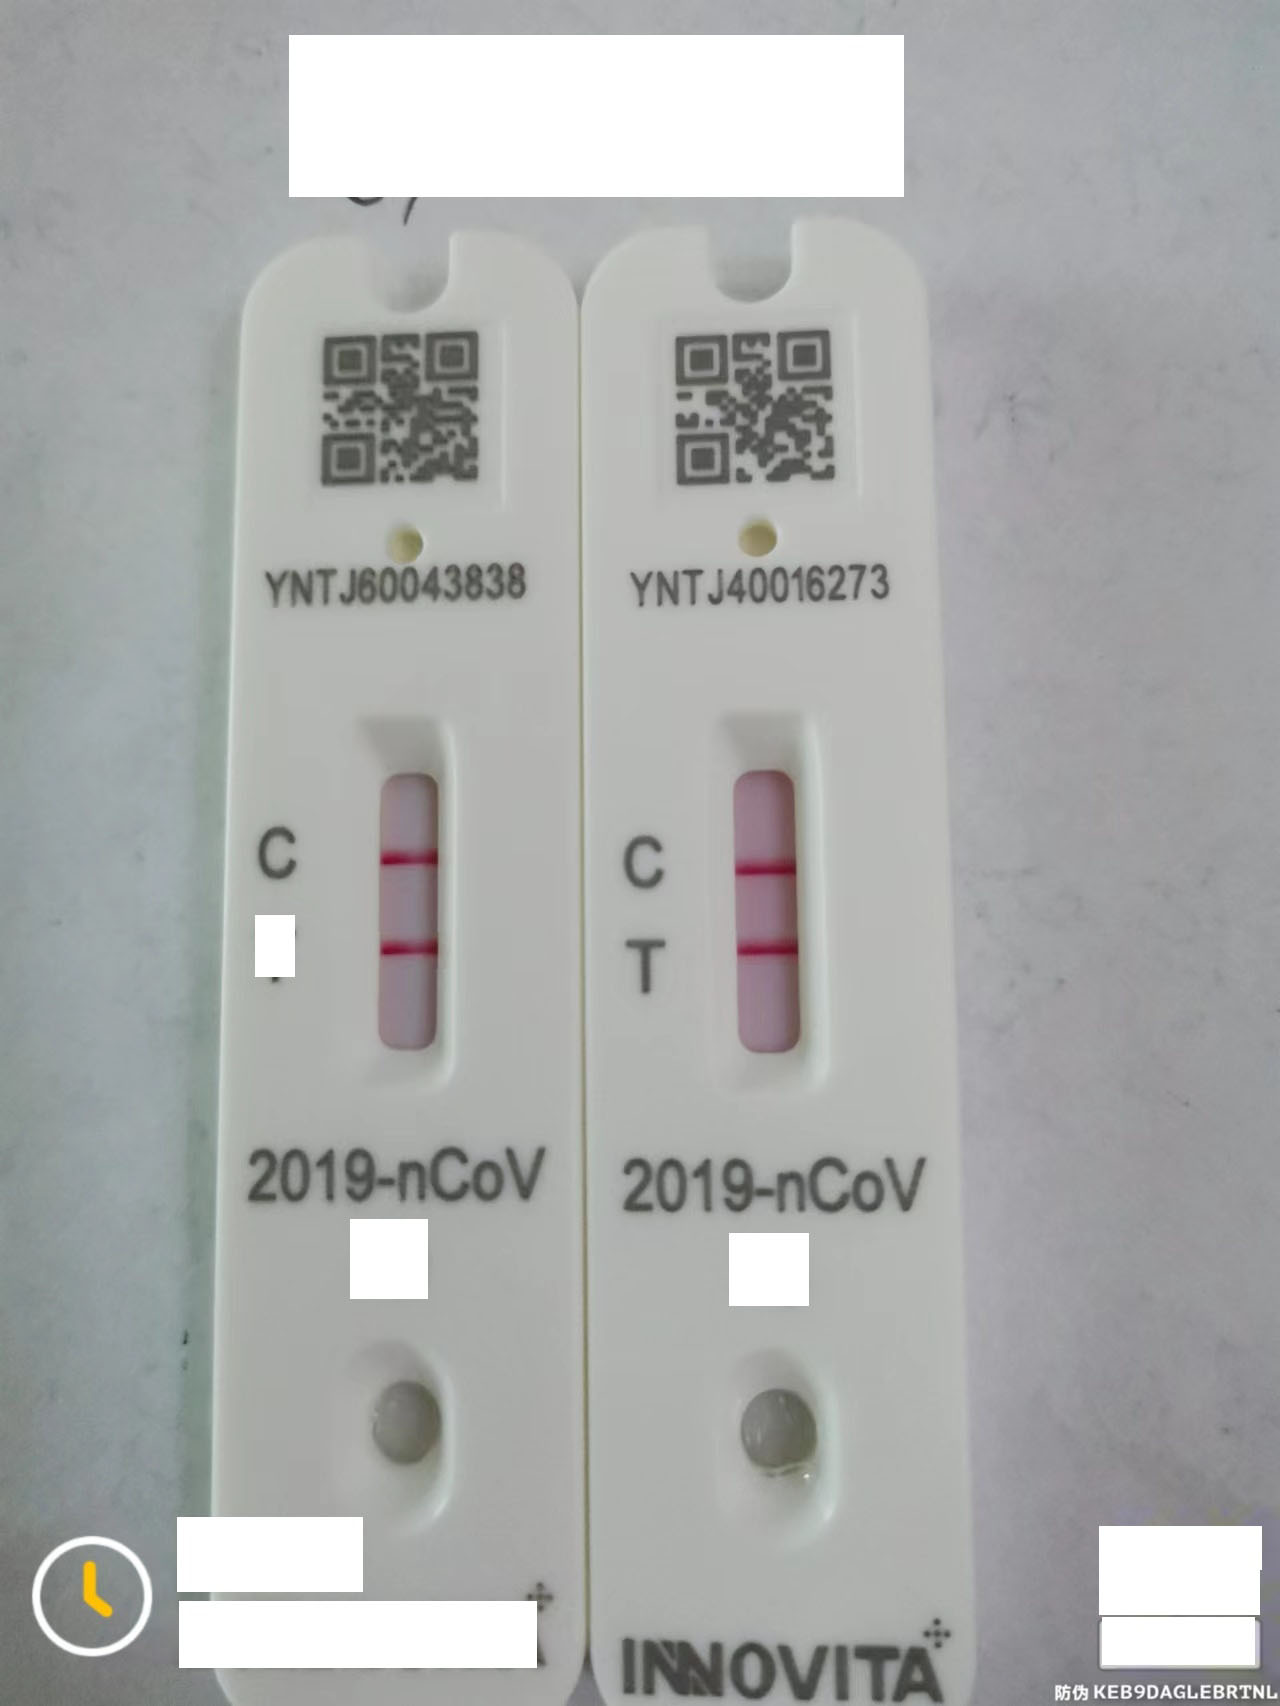positive: (344, 730, 457, 1075), (719, 714, 828, 1066)
